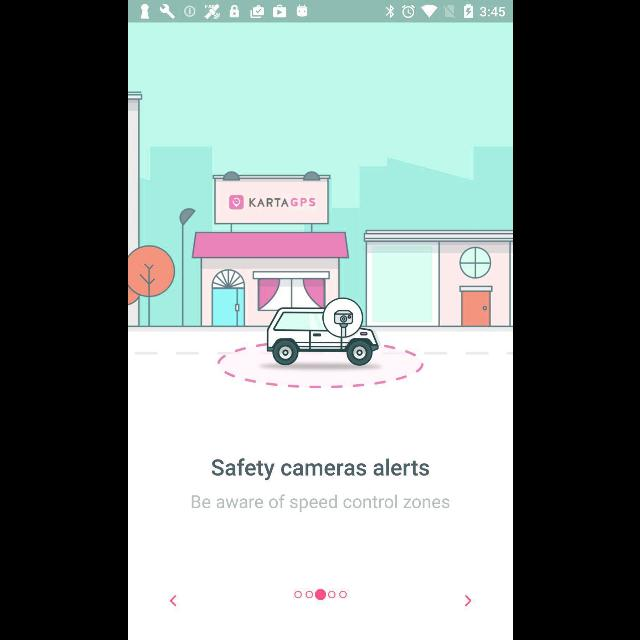icon: (464, 595, 472, 607), (170, 595, 177, 607)
image: (128, 23, 512, 389)
pageindicator: (293, 589, 347, 601)
text: (190, 493, 450, 512), (211, 458, 429, 480)
uppertaskbar: (128, 1, 512, 23)
